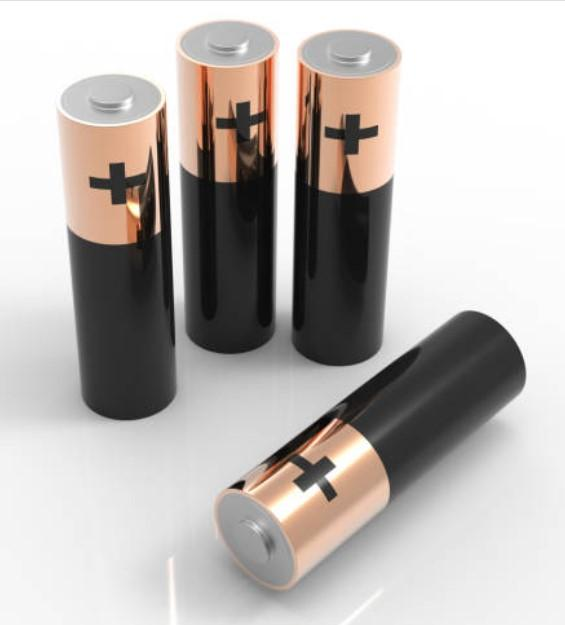Battery: (215, 312, 527, 592), (57, 74, 176, 420), (293, 29, 402, 366), (177, 20, 278, 354)
